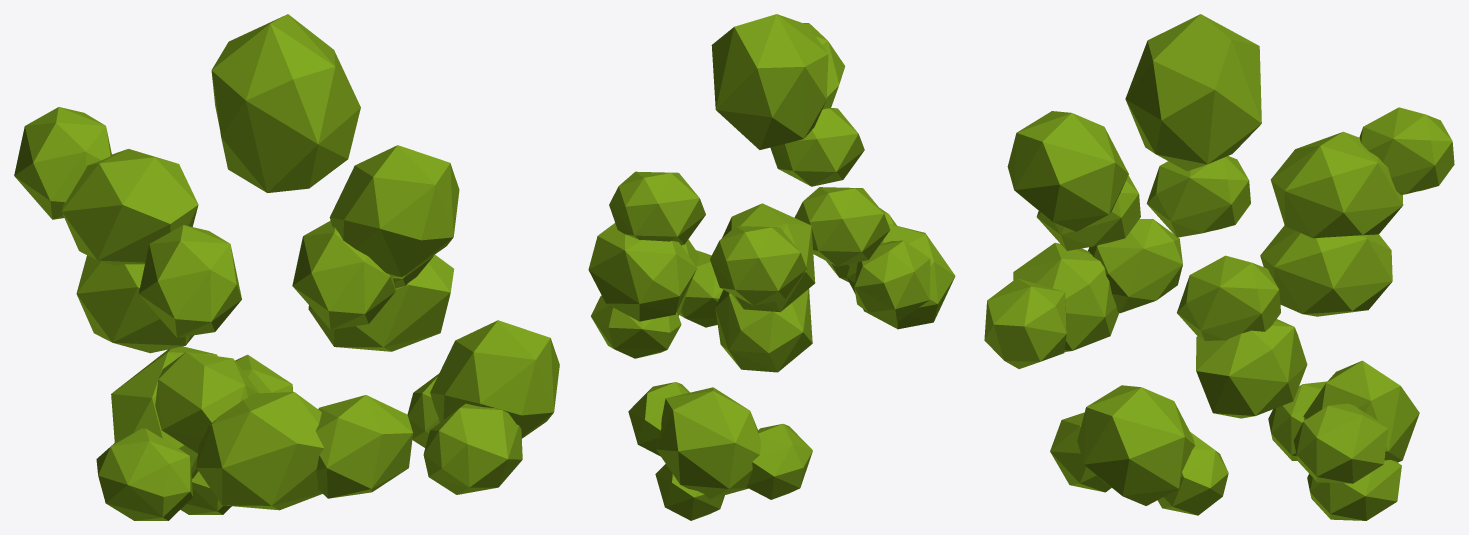
The model's file is tree-summer-leaves-038.glb.
The picture shows the model from 3 angles, left to right: view 1: azimuth 30°, elevation 25°; view 2: azimuth 150°, elevation 25°; view 3: azimuth 270°, elevation 25°; orthographic projection. The views are drawn at different scales.
Parts seen in each view (by area): view 1: Sphere.004_276; view 2: Sphere.004_276; view 3: Sphere.004_276.
Boxes of the visible parts, left/top/right/bottom form: Sphere.004_276: left=14, top=14, right=559, bottom=520; Sphere.004_276: left=588, top=14, right=955, bottom=520; Sphere.004_276: left=984, top=14, right=1454, bottom=520.
Size of the model in its own units: 1.08 by 1.44 by 1.23.
